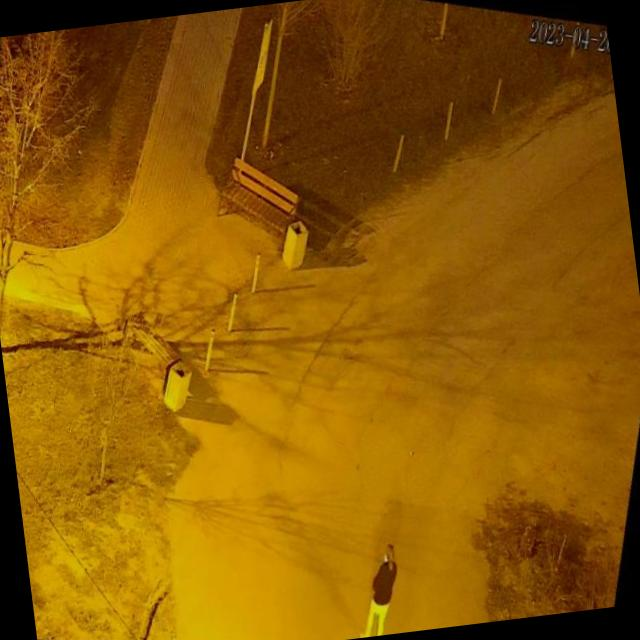person: (343, 535, 412, 638)
